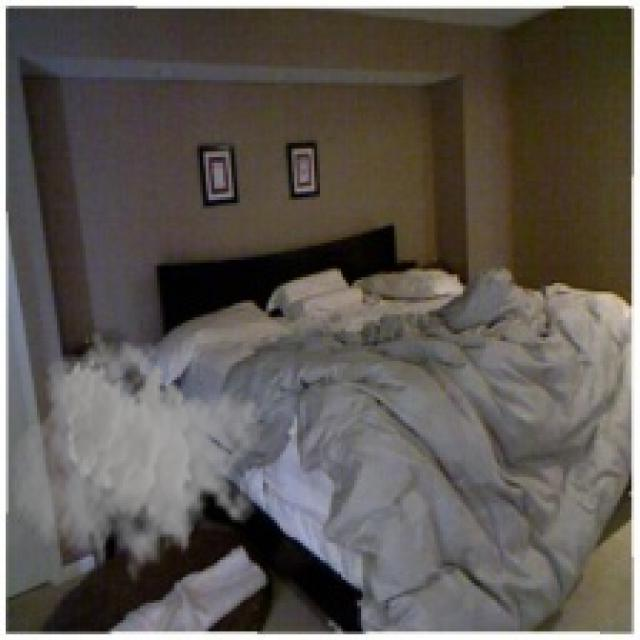smoke: (8, 328, 266, 592)
